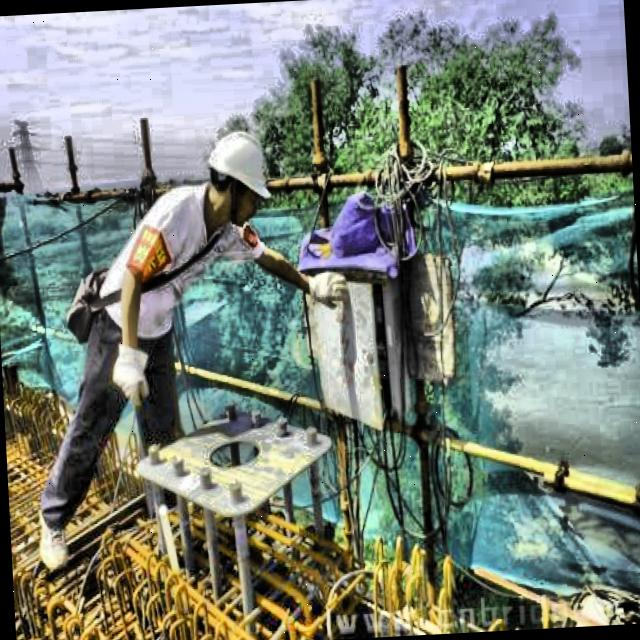helmet: (189, 115, 281, 235)
